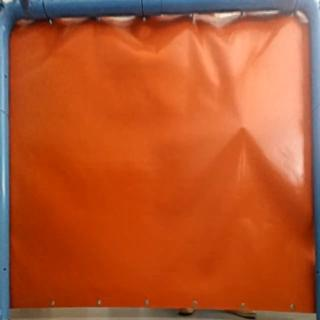Hit-hRxx: (236, 120, 250, 132)
